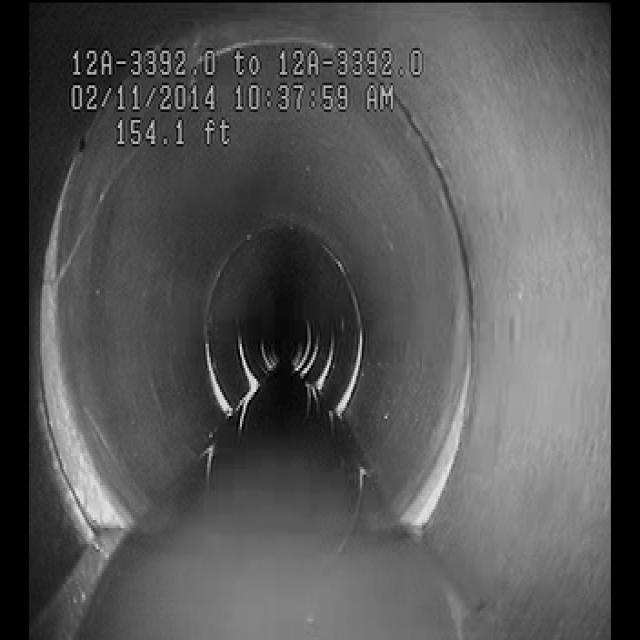Crack: (61, 153, 140, 284)
